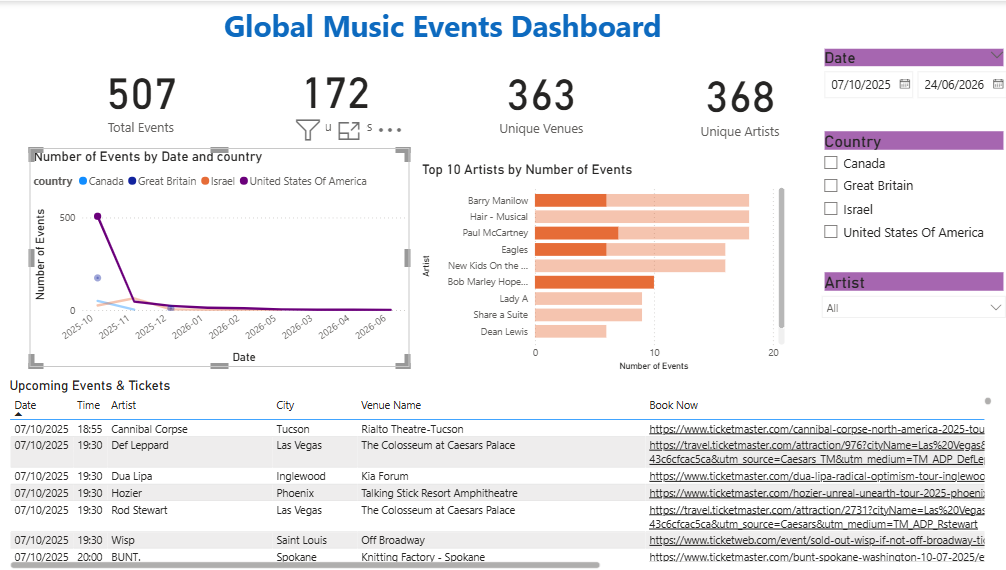

Layout of this report page (visuals, bound fields, positions):
{"tool":"powerbi","page":{"name":"Page 1","canvas":[1280,720],"ordinal":0},"visuals":[{"type":"card","fields":{"Values":["world_music_events.event_id"]},"box":[39.7,54.8,279.7,130.4],"z":0},{"type":"card","fields":{"Values":["world_music_events.city"]},"box":[319.4,43.5,209.8,151.2],"z":1000},{"type":"card","fields":{"Values":["world_music_events.venue_name"]},"box":[572.6,58.6,223,126.6],"z":2000},{"type":"card","fields":{"Values":["world_music_events.artist_primary"]},"box":[812.6,54.8,243.8,139.8],"z":3000},{"type":"lineChart","fields":{"Y":["world_music_events.event_id"],"Series":["world_music_events.country"],"Category":["world_music_events.YearMonth"]},"box":[39.7,185.2,478.1,275.9],"z":4000},{"type":"barChart","title":"Top 10 Artists by Number of Events","fields":{"Y":["world_music_events.event_id"],"Category":["world_music_events.artist_primary"]},"box":[529.1,202.2,466.8,268.3],"z":5000},{"type":"tableEx","title":"Upcoming Events & Tickets","fields":{"Values":["world_music_events.local_date","world_music_events.local_time","world_music_events.artist_primary","world_music_events.city","world_music_events.venue_name","world_music_events.url"]},"box":[9.4,474.3,1247.3,245.7],"z":6000},{"type":"textbox","box":[279.7,0,636.9,66.1],"z":7000},{"type":"slicer","fields":{"Values":["world_music_events.local_date"]},"box":[1028,54.8,251.3,164.4],"z":8000},{"type":"slicer","fields":{"Values":["world_music_events.country"]},"box":[1028,158.7,251.3,164.4],"z":9000},{"type":"slicer","fields":{"Values":["world_music_events.artist_primary"]},"box":[1028,336.4,251.3,92.6],"z":10000}]}

Visuals, with their boxes in screenshot pixels (x1, y1, x2, y2), scaled from the page's 1280x720 canvas onto the 1006x570 screenshot:
card - world_music_events.event_id: 31,43,251,147
card - world_music_events.city: 251,34,416,154
card - world_music_events.venue_name: 450,46,625,147
card - world_music_events.artist_primary: 639,43,830,154
lineChart - world_music_events.event_id x world_music_events.country: 31,147,407,365
"Top 10 Artists by Number of Events" barChart: 416,160,783,372
"Upcoming Events & Tickets" tableEx: 7,375,988,569
textbox: 220,0,720,52
slicer - world_music_events.local_date: 808,43,1005,174
slicer - world_music_events.country: 808,126,1005,256
slicer - world_music_events.artist_primary: 808,266,1005,340
